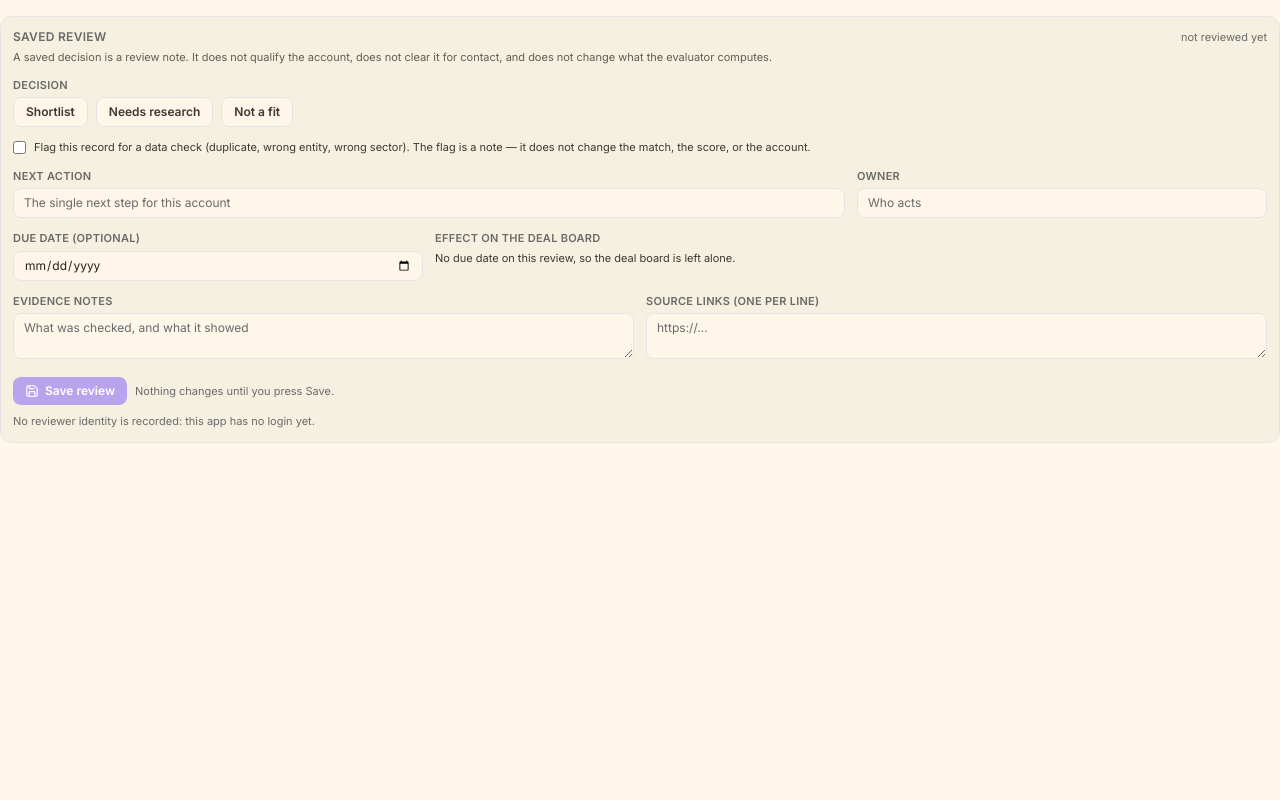
ProspectReviewPanel › refuses a rejection with no note: an exclusion states what it saw
Click the button "Not a fit" at (257, 112), box [221,97,293,127]
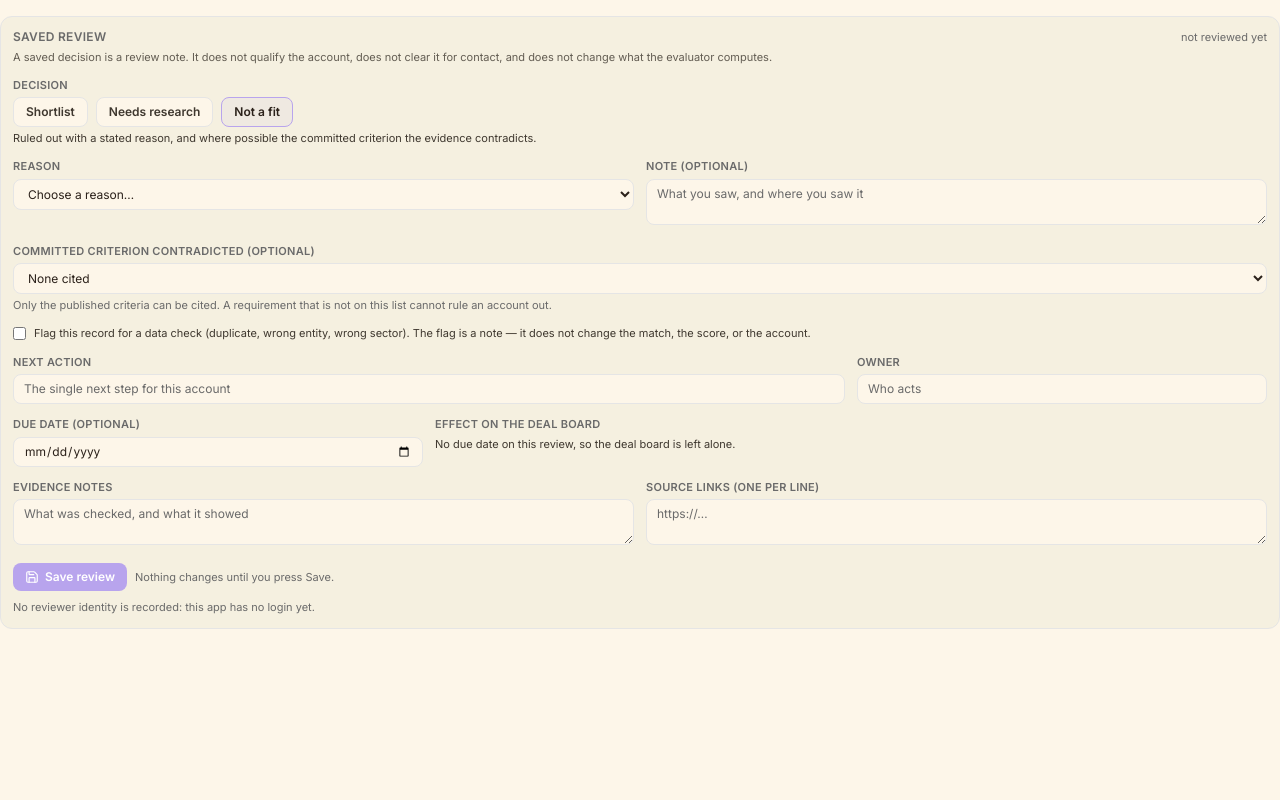
Select "Wrong kind of business" in the dropdown labelled "Reason" at (324, 194), box [13,179,634,210]
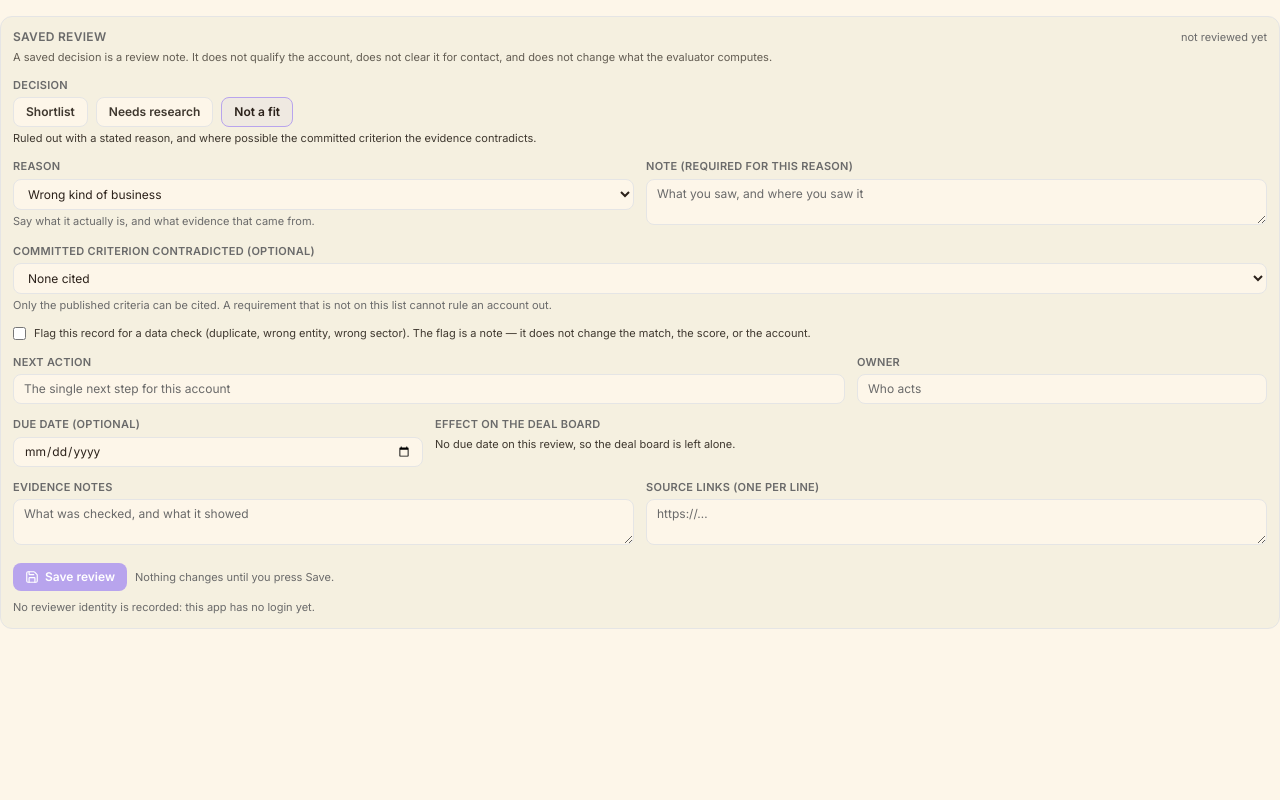
Click the button "Save review" at (70, 577), box [13,563,127,591]
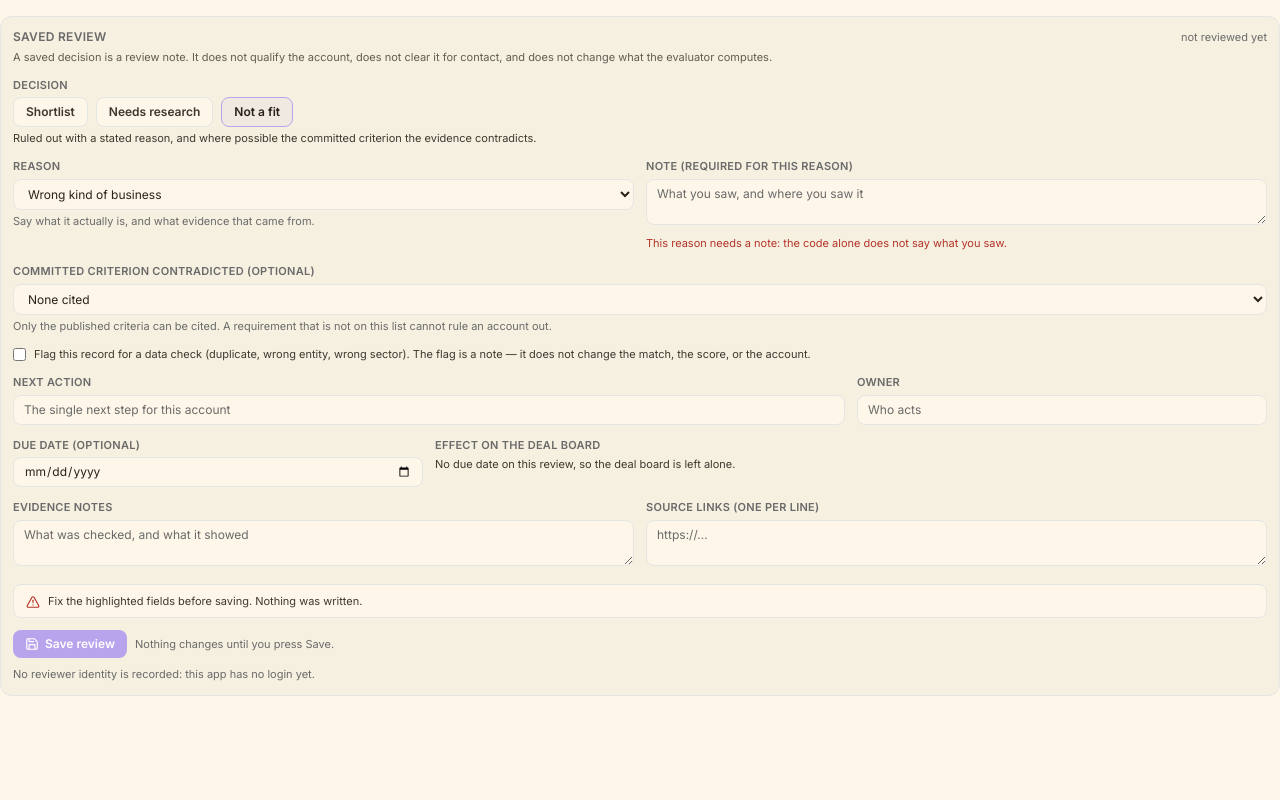
Expected: the text "needs a note" is shown, [646,236,1007,250]
